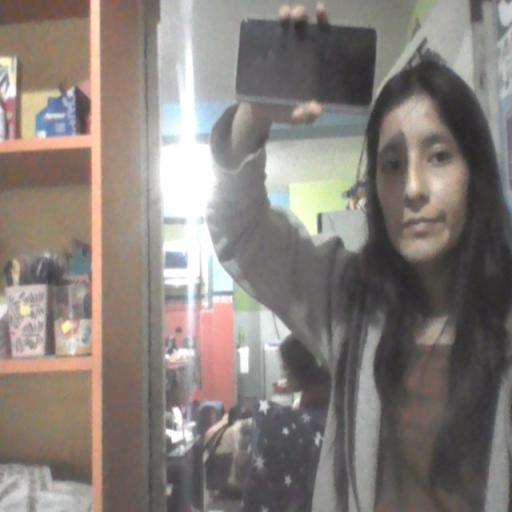phone: (230, 10, 380, 111)
